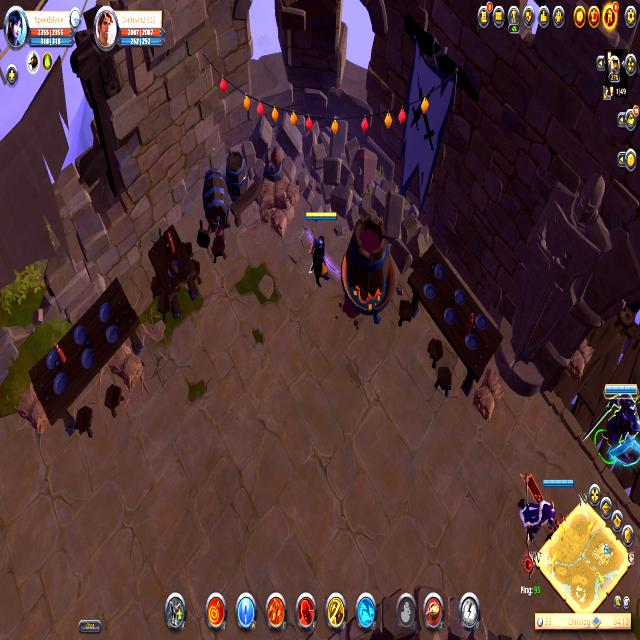red: (520, 471, 579, 550), (592, 378, 640, 465), (302, 207, 340, 290)
